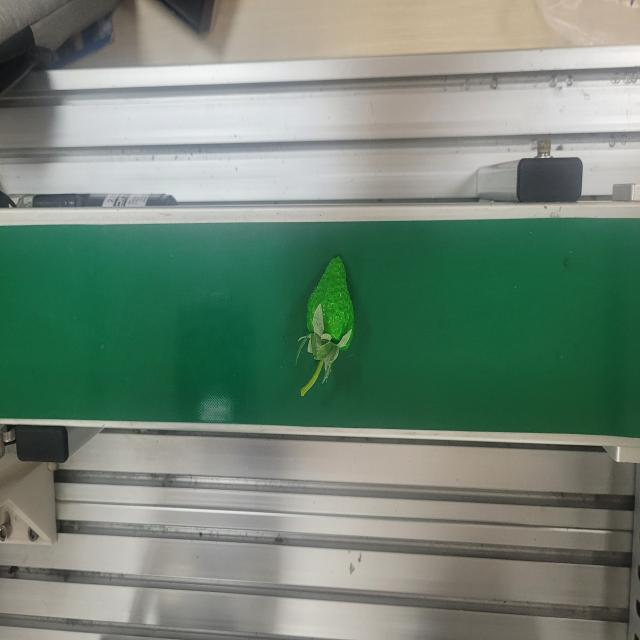Small Unripe Strawberry: (295, 252, 356, 398)
